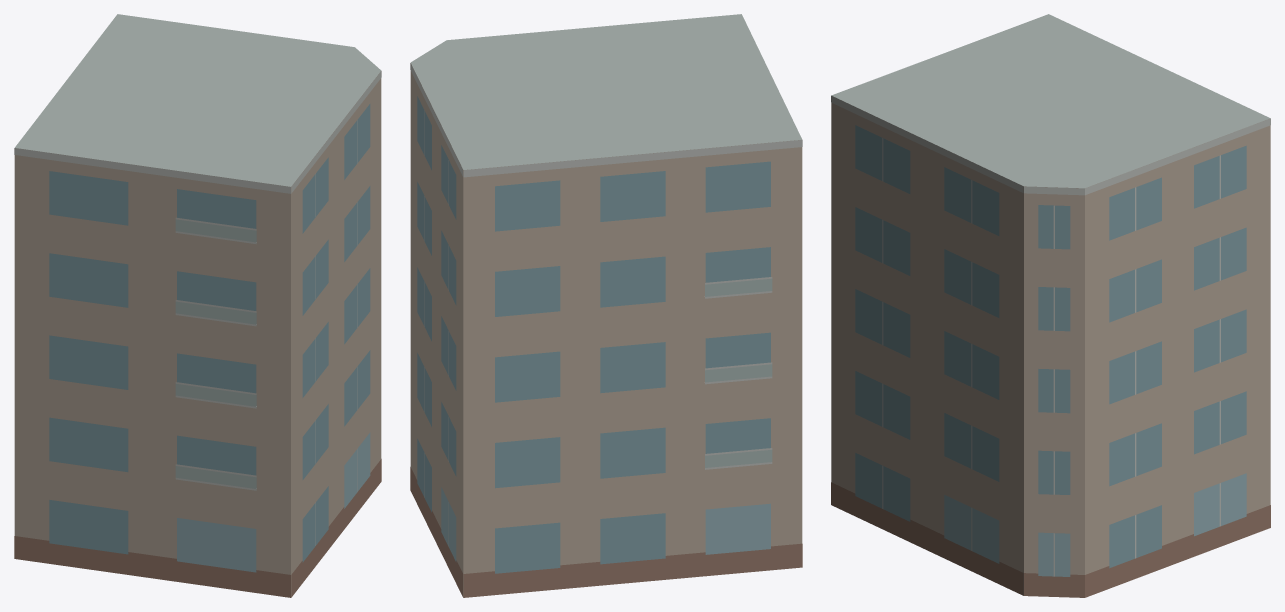
The model's file is survey-upis-32685040.glb.
The picture shows the model from 3 angles, left to right: view 1: azimuth 30°, elevation 25°; view 2: azimuth 150°, elevation 25°; view 3: azimuth 270°, elevation 25°; orthographic projection. The views are drawn at different scales.
Parts seen in each view (by area): view 1: survey-upis-32685040.tmp; view 2: survey-upis-32685040.tmp; view 3: survey-upis-32685040.tmp.
Part boxes in pixels (x1,y1,x2,y2): survey-upis-32685040.tmp: (14,14,381,597); survey-upis-32685040.tmp: (410,14,802,597); survey-upis-32685040.tmp: (831,14,1270,597).
Size of the model in its own units: 12.97 by 14.2 by 13.82.
